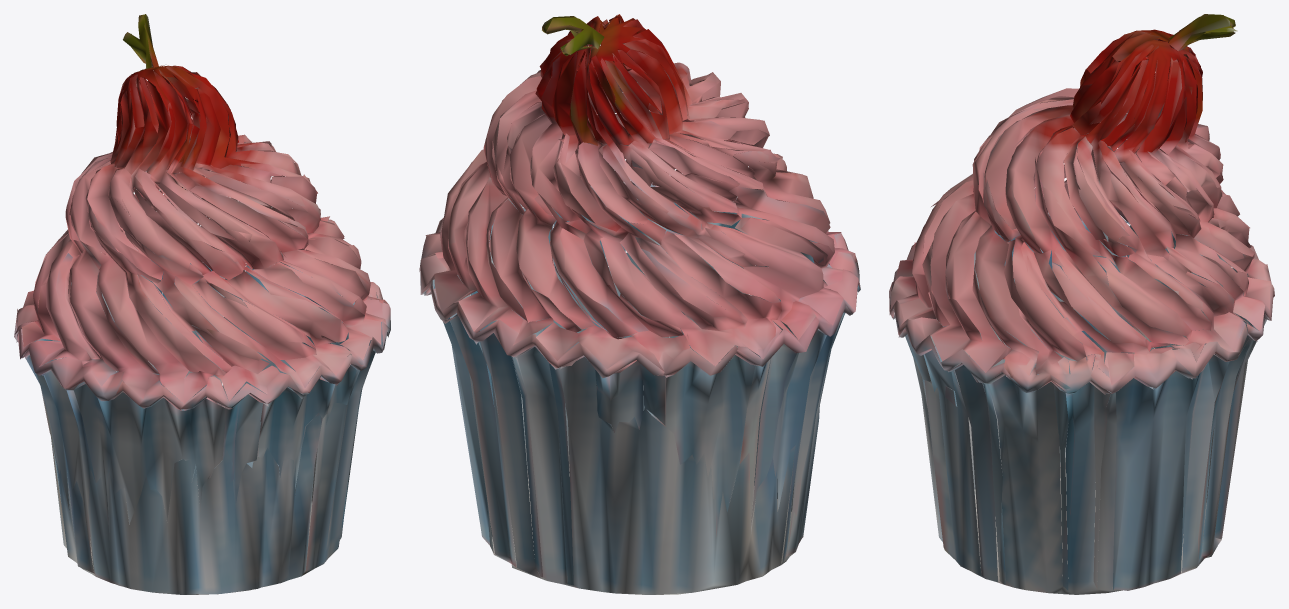
File: cupcake.glb
The picture shows the model from 3 angles, left to right: view 1: azimuth 30°, elevation 25°; view 2: azimuth 150°, elevation 25°; view 3: azimuth 270°, elevation 25°; orthographic projection. The views are drawn at different scales.
Parts seen in each view (by area): view 1: cupcake; view 2: cupcake; view 3: cupcake.
Part boxes in pixels (x1,y1,x2,y2): cupcake: [14, 14, 390, 594]; cupcake: [419, 14, 860, 594]; cupcake: [889, 14, 1274, 594].
Size of the model in its own units: 0.7207 by 1 by 0.6711.
1 material, 1 textured.
